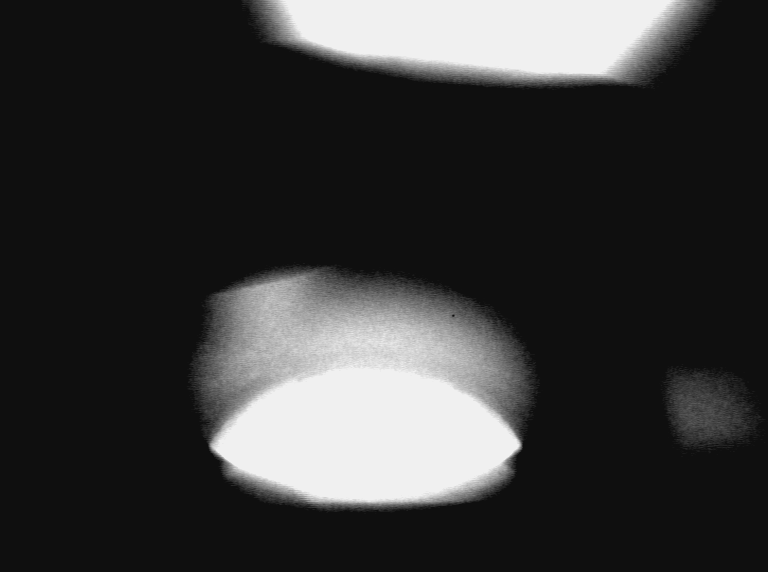defect: (182, 324, 271, 416)
